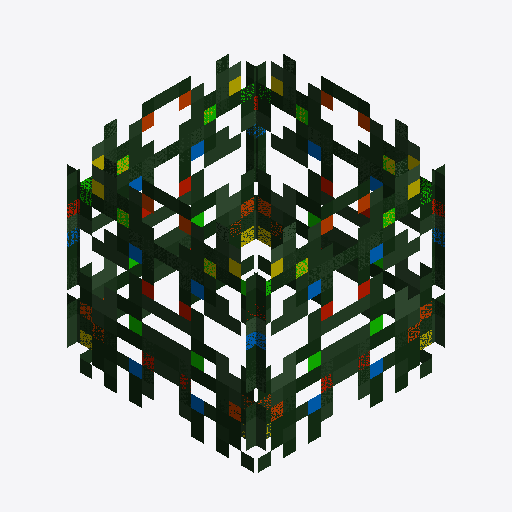
A Minecraft block model of 4 cuboids, rendered isometrically (azimuth 45°, elevation 35.3°) with the resource pack's own textures.
Parts seen in each view (by area): element 1, element 3, element 2, element 4.
Part boxes in pixels (bbox=[...]): element 1: bbox=[67, 157, 265, 472]; element 3: bbox=[246, 157, 444, 472]; element 2: bbox=[246, 54, 444, 362]; element 4: bbox=[67, 54, 265, 362].
Size of the model in its own units: 16 by 16 by 16.